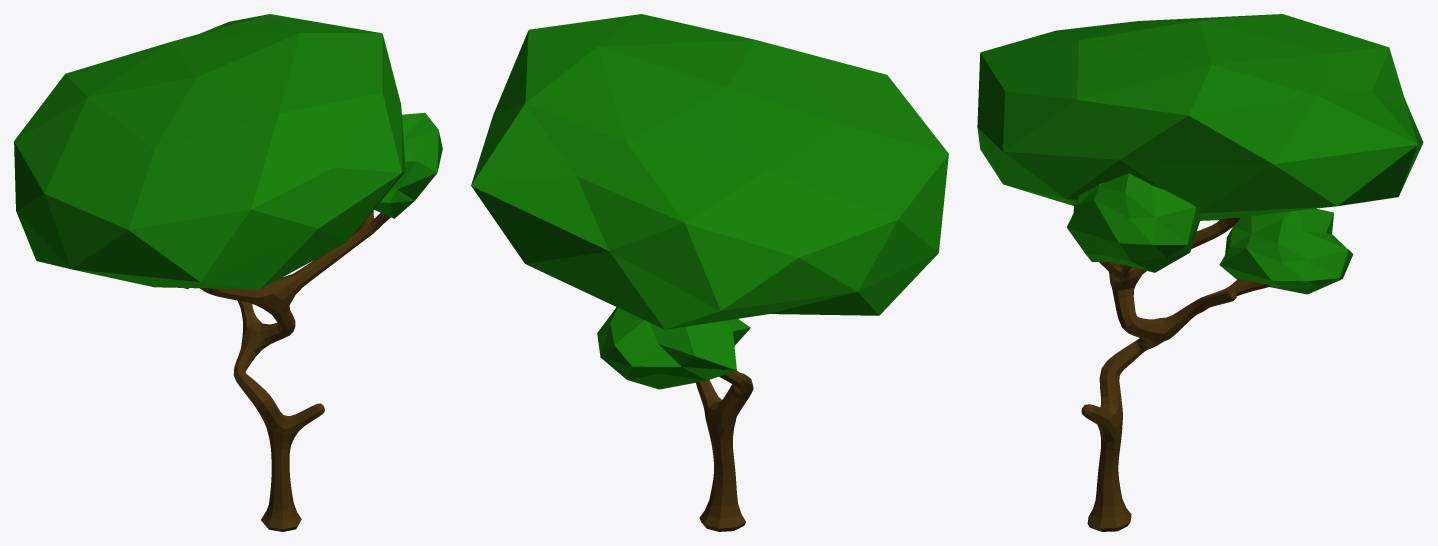
File: treeModel2.glb
3 renders of one model, left to right at view 1: azimuth 30°, elevation 25°; view 2: azimuth 150°, elevation 25°; view 3: azimuth 270°, elevation 25°, orthographic. The views are drawn at different scales.
Parts seen in each view (by area): view 1: Icosphere.001, Icosphere, Icosphere.002; view 2: Icosphere.001, Icosphere.003, Icosphere; view 3: Icosphere.001, Icosphere, Icosphere.002, Icosphere.003.
Boxes of the visible parts, left/top/right/bottom form: Icosphere.001: left=14, top=14, right=405, bottom=289; Icosphere: left=200, top=210, right=390, bottom=531; Icosphere.002: left=374, top=112, right=442, bottom=218; Icosphere.001: left=471, top=14, right=948, bottom=329; Icosphere.003: left=597, top=307, right=750, bottom=389; Icosphere: left=696, top=370, right=753, bottom=531; Icosphere.001: left=977, top=14, right=1423, bottom=220; Icosphere: left=1081, top=217, right=1270, bottom=531; Icosphere.002: left=1066, top=173, right=1200, bottom=272; Icosphere.003: left=1219, top=208, right=1352, bottom=294.
Bounding box in the file's own units: 10.76 × 12.42 × 10.12.
Materials: 3 (1 with a texture image).
